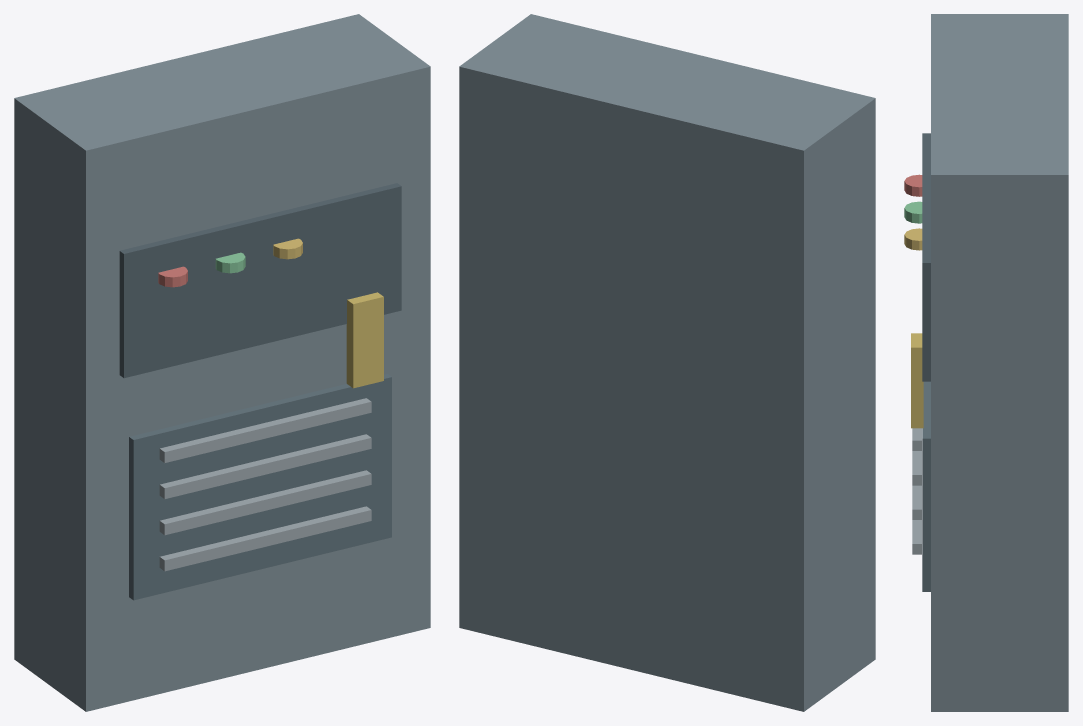
Rendered from panel_lod1.glb.
3 renders of one model, left to right at view 1: azimuth 30°, elevation 25°; view 2: azimuth 150°, elevation 25°; view 3: azimuth 270°, elevation 25°, orthographic. The views are drawn at different scales.
Visible parts, largest first — view 1: part_0, part_1, part_2, part_8, part_6, part_7, part_9, part_10; view 2: part_0; view 3: part_0, part_1, part_2, part_10, part_3, part_4, part_5, part_6, part_7, part_8.
Boxes of the visible parts, box(x1,y1,x2,y2) form: part_0: box(14, 14, 430, 711); part_1: box(119, 183, 401, 378); part_2: box(129, 374, 391, 600); part_8: box(159, 434, 371, 499); part_6: box(159, 506, 371, 571); part_7: box(159, 470, 371, 535); part_9: box(159, 398, 371, 462); part_10: box(346, 292, 383, 388); part_0: box(459, 14, 875, 711); part_0: box(931, 14, 1068, 711); part_1: box(922, 133, 930, 381); part_2: box(922, 381, 930, 591); part_10: box(911, 333, 923, 428); part_3: box(904, 174, 922, 196); part_4: box(904, 201, 922, 223); part_5: box(904, 228, 922, 250); part_6: box(912, 520, 921, 554); part_7: box(912, 485, 921, 519); part_8: box(912, 451, 921, 485).
Bounding box in the file's own units: 1.8 × 2.8 × 0.775.
